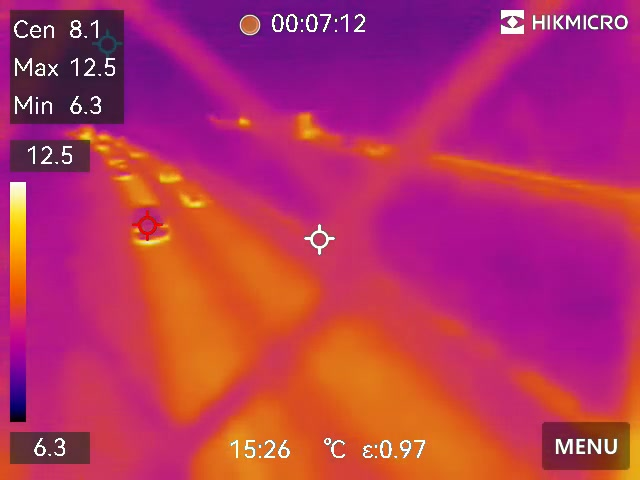vehicle: (129, 200, 168, 243), (175, 183, 210, 210), (79, 133, 114, 160), (154, 157, 180, 185), (106, 165, 137, 185), (126, 137, 150, 159), (234, 110, 257, 131)
